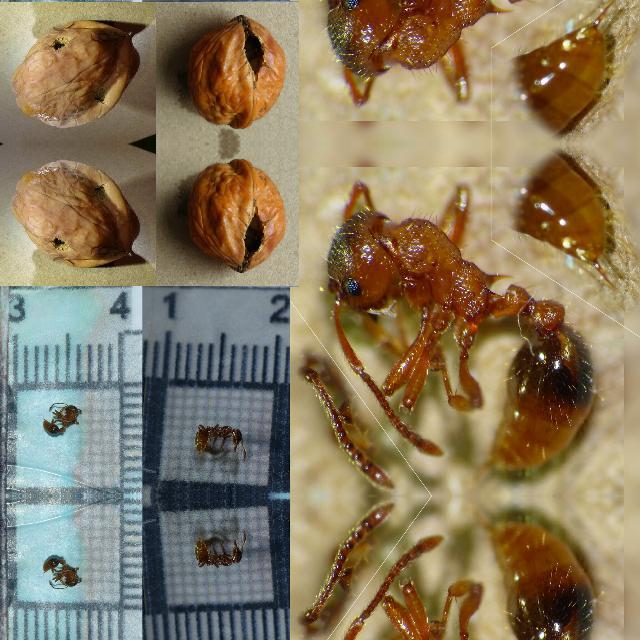Myrmica: (303, 159, 639, 469), (303, 0, 639, 126), (303, 520, 639, 640), (504, 146, 620, 272), (504, 14, 620, 140), (190, 418, 242, 458), (190, 532, 242, 572), (39, 399, 91, 435), (39, 555, 91, 591)
